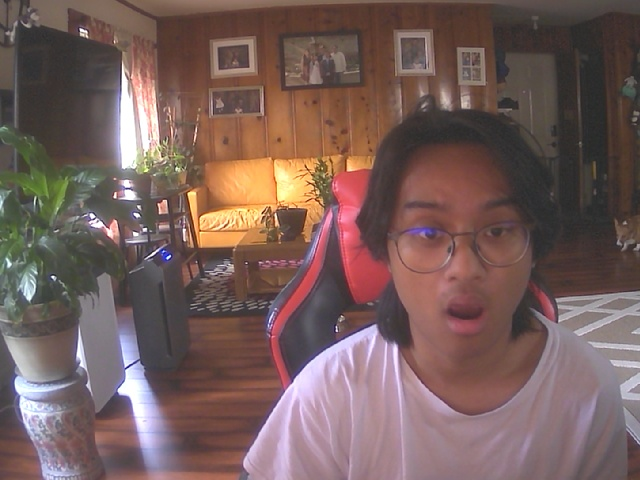fear: (378, 111, 551, 363)
